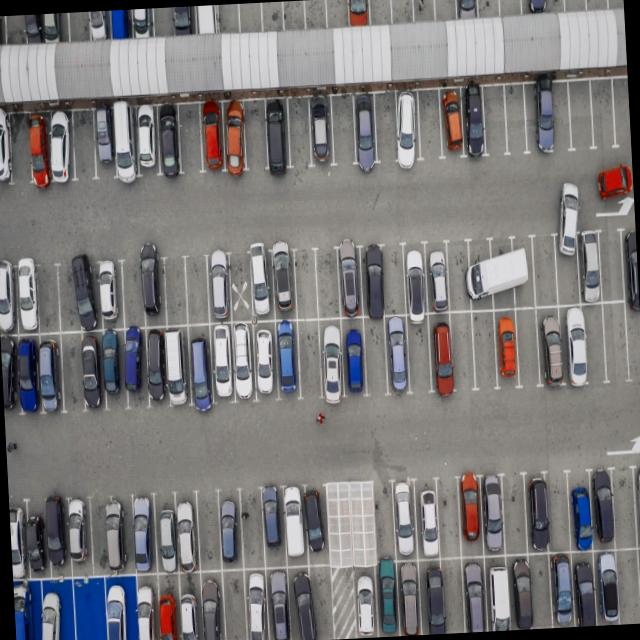car: (29, 576, 73, 640), (560, 304, 594, 386), (98, 572, 136, 640), (32, 332, 64, 412), (164, 327, 196, 407), (536, 308, 568, 387), (527, 81, 561, 155), (186, 325, 217, 406), (388, 478, 418, 560), (484, 554, 516, 630), (66, 261, 99, 334), (122, 327, 152, 407), (252, 321, 282, 401), (207, 324, 237, 404), (130, 494, 160, 574), (272, 319, 302, 398), (455, 475, 484, 556), (12, 334, 41, 415), (399, 245, 432, 316), (64, 496, 94, 574), (339, 314, 368, 394), (414, 478, 443, 558), (227, 322, 256, 402), (243, 568, 275, 640), (317, 314, 345, 396), (392, 91, 423, 165), (172, 493, 201, 572), (492, 308, 522, 384), (286, 564, 316, 640), (487, 236, 518, 309), (480, 474, 508, 554), (203, 252, 234, 324), (132, 104, 162, 178), (546, 554, 576, 628), (217, 490, 245, 569), (40, 495, 68, 574), (461, 556, 490, 632), (195, 569, 226, 640), (100, 326, 127, 407), (428, 314, 456, 392), (300, 486, 328, 564), (102, 497, 130, 575), (266, 565, 295, 640), (97, 260, 128, 330), (262, 486, 289, 566), (357, 246, 387, 318), (468, 238, 498, 310), (384, 316, 412, 393), (570, 548, 598, 625), (590, 547, 618, 624), (568, 476, 597, 550), (438, 88, 468, 159), (306, 96, 336, 167), (352, 94, 381, 167), (82, 331, 109, 409), (111, 498, 138, 576), (353, 568, 383, 638), (418, 558, 446, 633), (262, 98, 291, 170), (221, 101, 250, 173), (250, 246, 278, 320), (574, 231, 602, 305), (112, 106, 140, 180), (506, 556, 534, 630), (152, 494, 178, 573), (144, 327, 170, 406), (394, 558, 421, 634), (173, 574, 204, 640), (269, 247, 297, 320), (12, 263, 40, 336), (156, 105, 184, 178), (133, 572, 163, 640), (282, 486, 308, 564), (198, 102, 226, 174), (48, 110, 76, 182), (508, 236, 536, 308), (524, 477, 550, 554), (336, 248, 365, 316), (153, 572, 182, 640), (461, 88, 488, 160), (373, 564, 399, 638), (423, 245, 451, 313), (26, 498, 50, 576), (93, 109, 119, 180), (141, 258, 168, 326), (592, 473, 616, 549), (28, 111, 52, 186), (79, 259, 104, 330), (10, 505, 30, 583), (13, 579, 38, 640), (0, 335, 18, 413), (0, 261, 19, 334), (622, 228, 640, 302), (0, 111, 13, 186), (110, 9, 136, 42), (130, 8, 156, 40), (193, 5, 219, 36), (40, 13, 66, 43), (88, 10, 111, 42), (172, 6, 196, 36), (344, 0, 370, 27), (23, 14, 43, 44), (53, 12, 71, 44), (522, 0, 563, 14), (633, 465, 640, 547), (411, 0, 437, 21), (456, 0, 481, 19), (0, 16, 5, 47)
free: (70, 573, 110, 640), (448, 311, 478, 391), (219, 568, 252, 640), (470, 310, 500, 388), (602, 302, 632, 380), (293, 320, 323, 398), (304, 564, 335, 639), (404, 316, 434, 393), (434, 478, 462, 560), (59, 332, 88, 411), (237, 493, 266, 572), (596, 228, 626, 304), (436, 556, 466, 632), (512, 308, 541, 386), (501, 476, 529, 556), (242, 96, 272, 170), (370, 484, 397, 566), (194, 493, 222, 572), (329, 93, 359, 166), (553, 232, 583, 305), (546, 476, 574, 554), (414, 90, 444, 162), (176, 103, 206, 175), (591, 80, 620, 154), (371, 93, 400, 166), (286, 98, 316, 168), (444, 242, 474, 312), (480, 84, 509, 156), (612, 470, 638, 550), (582, 302, 608, 382), (362, 316, 389, 393), (530, 232, 558, 306), (162, 257, 192, 326), (71, 110, 100, 181), (378, 245, 406, 318), (312, 250, 341, 320), (34, 264, 62, 336), (502, 83, 530, 155), (528, 554, 555, 628), (225, 250, 252, 324), (290, 251, 318, 322), (182, 256, 210, 326), (568, 82, 595, 154), (9, 114, 35, 188), (616, 545, 640, 622), (121, 260, 148, 328), (58, 264, 85, 332), (90, 499, 114, 575), (328, 489, 350, 567), (612, 78, 632, 148), (624, 302, 640, 379), (302, 0, 328, 31), (281, 1, 307, 32), (68, 12, 92, 44), (238, 2, 262, 34), (325, 0, 351, 29), (152, 7, 176, 38), (260, 1, 284, 32), (367, 0, 393, 26), (5, 15, 27, 45), (218, 4, 240, 33), (390, 0, 415, 24), (433, 0, 458, 20), (476, 0, 499, 18), (498, 0, 522, 17), (563, 0, 587, 11), (584, 0, 608, 10), (607, 0, 624, 8)
